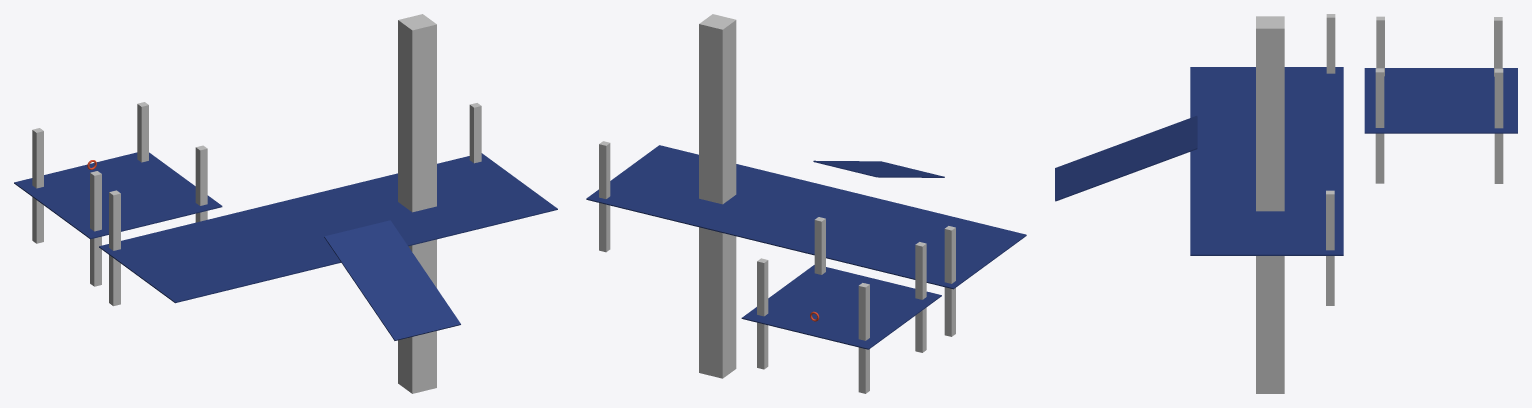
The model's file is worldScene2WithCollections.gltf.
The picture shows the model from 3 angles, left to right: view 1: azimuth 30°, elevation 25°; view 2: azimuth 150°, elevation 25°; view 3: azimuth 270°, elevation 25°; orthographic projection. The views are drawn at different scales.
Parts seen in each view (by area): view 1: platform2, Cube.006, platform1, platform3, Cube.001, Cube.005, Cube.003, Cube.002, Cube.004, Cube; view 2: platform2, Cube.006, platform1, Cube.005, Cube.004, platform3, Cube, Cube.003, Cube.001, Cube.002; view 3: platform2, Cube.006, platform1, platform3, Cube, Cube.002, Cube.004, Cube.005, Cube.001, Cube.003.
Boxes of the visible parts, <box> form: platform2: <box>99,153,557,303</box>; Cube.006: <box>398,14,436,393</box>; platform1: <box>14,152,222,239</box>; platform3: <box>324,220,460,340</box>; Cube.001: <box>90,171,101,286</box>; Cube.005: <box>109,190,120,306</box>; Cube.003: <box>32,128,43,243</box>; Cube.002: <box>195,145,207,222</box>; Cube.004: <box>469,103,481,163</box>; Cube: <box>137,102,148,162</box>; platform2: <box>586,145,1026,289</box>; Cube.006: <box>699,14,736,378</box>; platform1: <box>741,265,941,349</box>; Cube.005: <box>944,226,955,336</box>; Cube.004: <box>599,141,610,252</box>; platform3: <box>813,160,944,177</box>; Cube: <box>757,258,768,369</box>; Cube.003: <box>858,283,869,393</box>; Cube.001: <box>915,242,926,352</box>; Cube.002: <box>814,217,825,274</box>; platform2: <box>1190,67,1343,255</box>; Cube.006: <box>1256,16,1284,393</box>; platform1: <box>1364,68,1517,133</box>; platform3: <box>1055,115,1197,201</box>; Cube: <box>1494,68,1503,183</box>; Cube.002: <box>1375,68,1384,183</box>; Cube.004: <box>1326,190,1334,305</box>; Cube.005: <box>1326,14,1335,73</box>; Cube.001: <box>1376,16,1384,76</box>; Cube.003: <box>1494,17,1502,76</box>.
Bounding box in the file's own units: 102 × 92.32 × 106.
